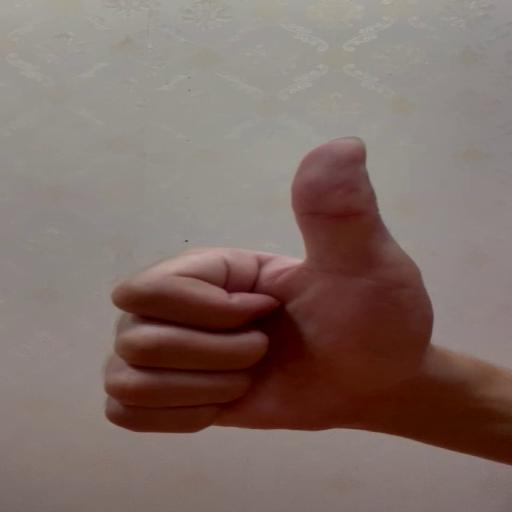thumbs_up: (101, 133, 434, 431)
